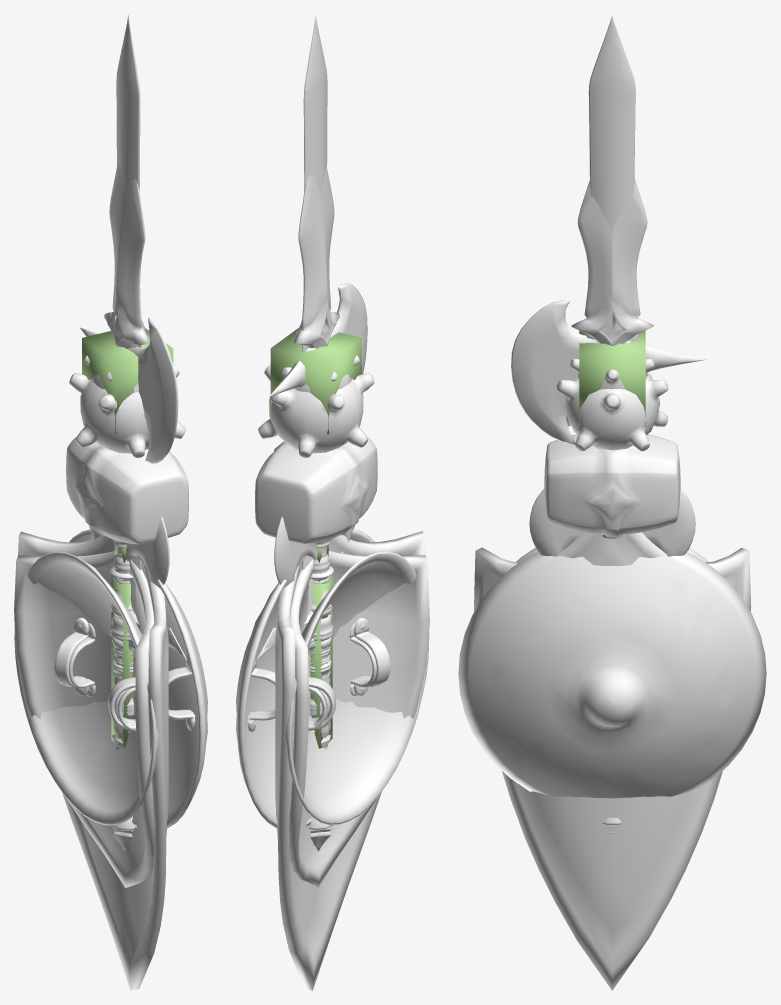
The model's file is Fantasy Weapons.obj.
The picture shows the model from 3 angles, left to right: view 1: azimuth 30°, elevation 25°; view 2: azimuth 150°, elevation 25°; view 3: azimuth 270°, elevation 25°; orthographic projection.
Visible parts, largest first — view 1: Shield_v1, Shield_v3, Shield_v2, Hammer, Shield_v4, Spear_, Morgenstern_v1, Poleaxe, Sword_v3, CATRigHub001Bone001Bone001Bone001Bone001Bone001Bone001Bone001Bon, Ax, CATRigHub001 (+1 smaller); view 2: Shield_v1, Shield_v3, Shield_v2, Hammer, Shield_v4, Morgenstern_v1, Spear_, CATRigHub001Bone001Bone001Bone001Bone001Bone001Bone001Bone001Bon, Sword_v3, Poleaxe, Ax, CATRigHub001 (+1 smaller); view 3: Shield_v4, Shield_v2, Hammer, Spear_, Sword_v3, Poleaxe, Morgenstern_v1, CATRigHub001Bone001Bone001Bone001Bone001Bone001Bone001Bone001Bon, Ax.
Boxes of the visible parts, bbox=[...] form: Shield_v1: bbox=[14, 551, 154, 887]; Shield_v3: bbox=[14, 551, 158, 825]; Shield_v2: bbox=[18, 531, 168, 990]; Hammer: bbox=[66, 437, 188, 733]; Shield_v4: bbox=[69, 529, 207, 828]; Spear_: bbox=[104, 164, 149, 851]; Morgenstern_v1: bbox=[69, 364, 185, 728]; Poleaxe: bbox=[79, 317, 178, 833]; Sword_v3: bbox=[110, 15, 187, 830]; CATRigHub001Bone001Bone001Bone001Bone001Bone001Bone001Bone001Bon: bbox=[82, 328, 173, 434]; Ax: bbox=[89, 517, 169, 738]; CATRigHub001: bbox=[111, 575, 132, 748]; Shield_v1: bbox=[289, 551, 429, 887]; Shield_v3: bbox=[285, 551, 429, 825]; Shield_v2: bbox=[275, 531, 425, 990]; Hammer: bbox=[255, 437, 377, 733]; Shield_v4: bbox=[236, 529, 374, 828]; Morgenstern_v1: bbox=[258, 364, 374, 728]; Spear_: bbox=[293, 166, 339, 851]; CATRigHub001Bone001Bone001Bone001Bone001Bone001Bone001Bone001Bon: bbox=[270, 328, 361, 434]; Sword_v3: bbox=[256, 14, 333, 830]; Poleaxe: bbox=[269, 283, 367, 833]; Ax: bbox=[274, 516, 354, 738]; CATRigHub001: bbox=[310, 575, 332, 748]; Shield_v4: bbox=[458, 552, 766, 798]; Shield_v2: bbox=[474, 532, 751, 990]; Hammer: bbox=[544, 434, 680, 539]; Spear_: bbox=[571, 179, 653, 833]; Sword_v3: bbox=[588, 14, 635, 825]; Poleaxe: bbox=[511, 300, 706, 827]; Morgenstern_v1: bbox=[556, 372, 668, 451]; CATRigHub001Bone001Bone001Bone001Bone001Bone001Bone001Bone001Bon: bbox=[579, 330, 645, 426]; Ax: bbox=[529, 489, 695, 556].
Bounding box in the file's own units: 32.42 × 245 × 70.54.
